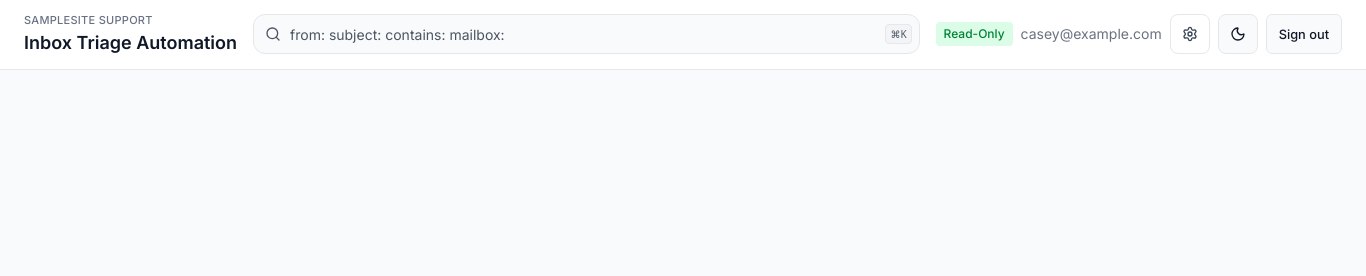
Test: AppHeader search › does not clip search suggestions under the overview
Click the search field named "search mail": [586, 34] box [253,14,920,54]
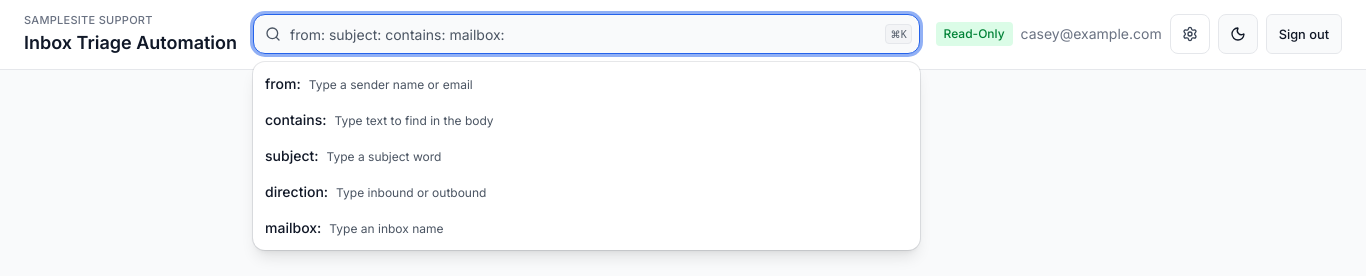
Result: the list named "search suggestions" is shown at [253,62,920,250]
